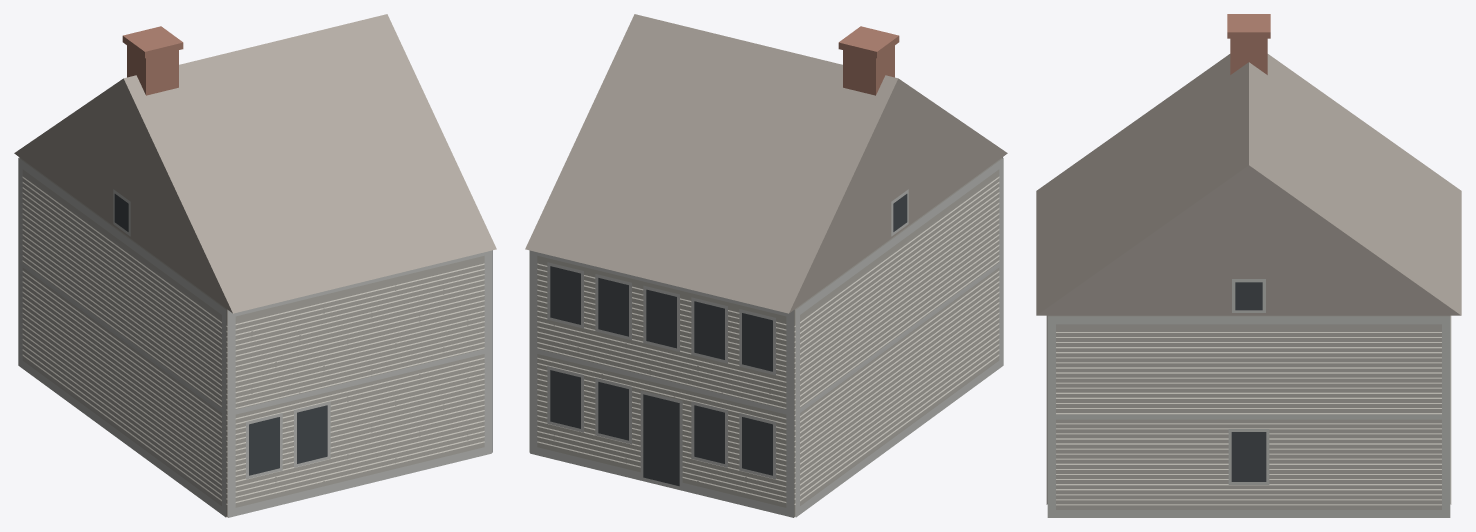
File: recon_1835_west_019__inferred_1835.glb
3 renders of one model, left to right at view 1: azimuth 30°, elevation 25°; view 2: azimuth 150°, elevation 25°; view 3: azimuth 270°, elevation 25°, orthographic. The views are drawn at different scales.
Parts seen in each view (by area): view 1: recon_1835_west_019__inferred_1835; view 2: recon_1835_west_019__inferred_1835; view 3: recon_1835_west_019__inferred_1835.
Part boxes in pixels (x1,y1,x2,y2): recon_1835_west_019__inferred_1835: [14, 14, 496, 517]; recon_1835_west_019__inferred_1835: [525, 14, 1007, 517]; recon_1835_west_019__inferred_1835: [1036, 14, 1461, 517].
Size of the model in its own units: 6.8 by 9.6 by 9.64.
